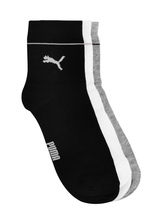sock: (23, 18, 146, 205)
